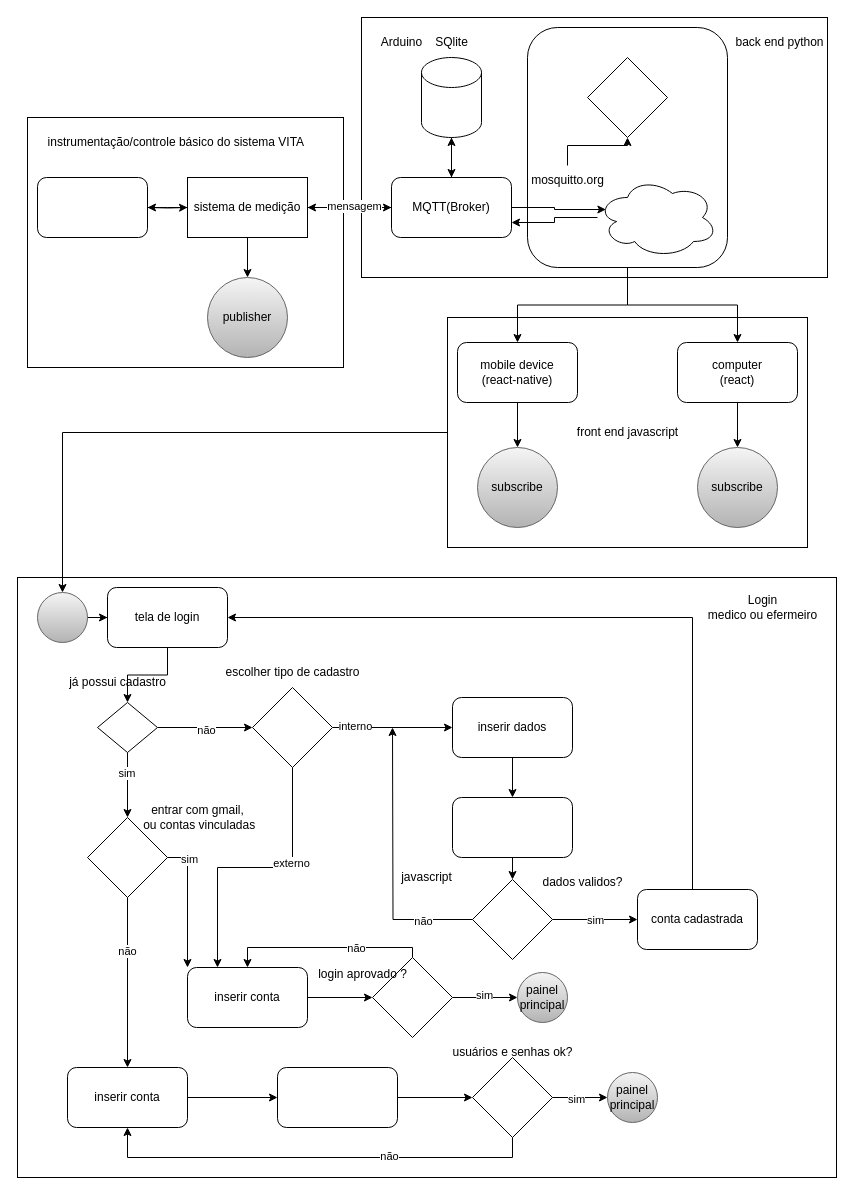
Some shapes in this 854 by 1195 pixel diagram are drawn without their labels. The box of each missing label's shape, as (x1, y1, x2, y2) in pixels:
Bd: (420, 56, 482, 138)
meios de medição: (36, 176, 148, 238)
NUVEM IOT: (596, 176, 718, 258)
origem: (36, 592, 88, 642)
validar dados: (452, 796, 572, 858)
verificar dados: (276, 1066, 398, 1128)
verificação do host: (586, 56, 668, 138)
